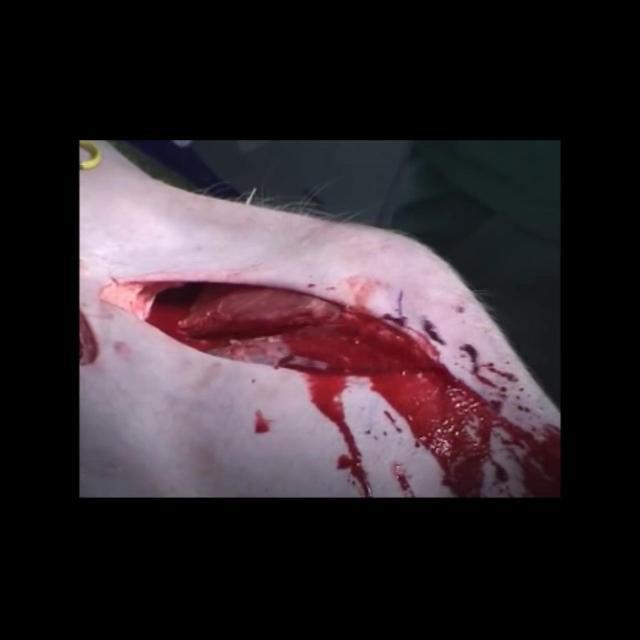blood: (144, 282, 560, 497), (255, 410, 270, 433)
